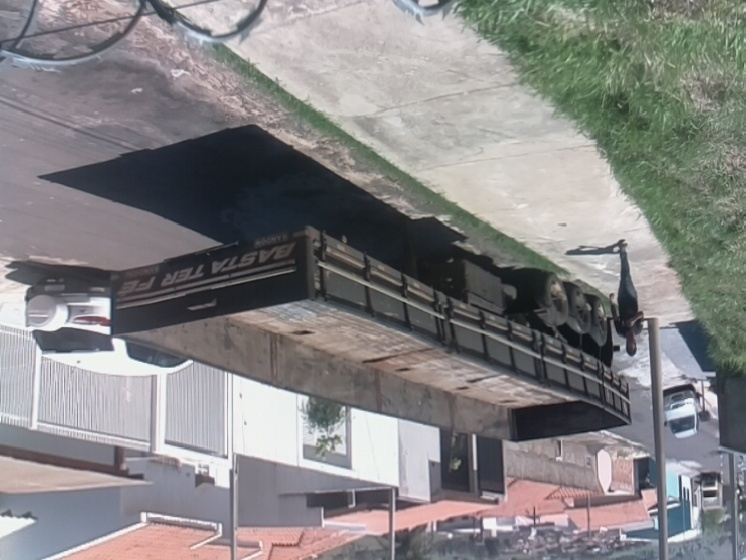person: (607, 237, 647, 357)
